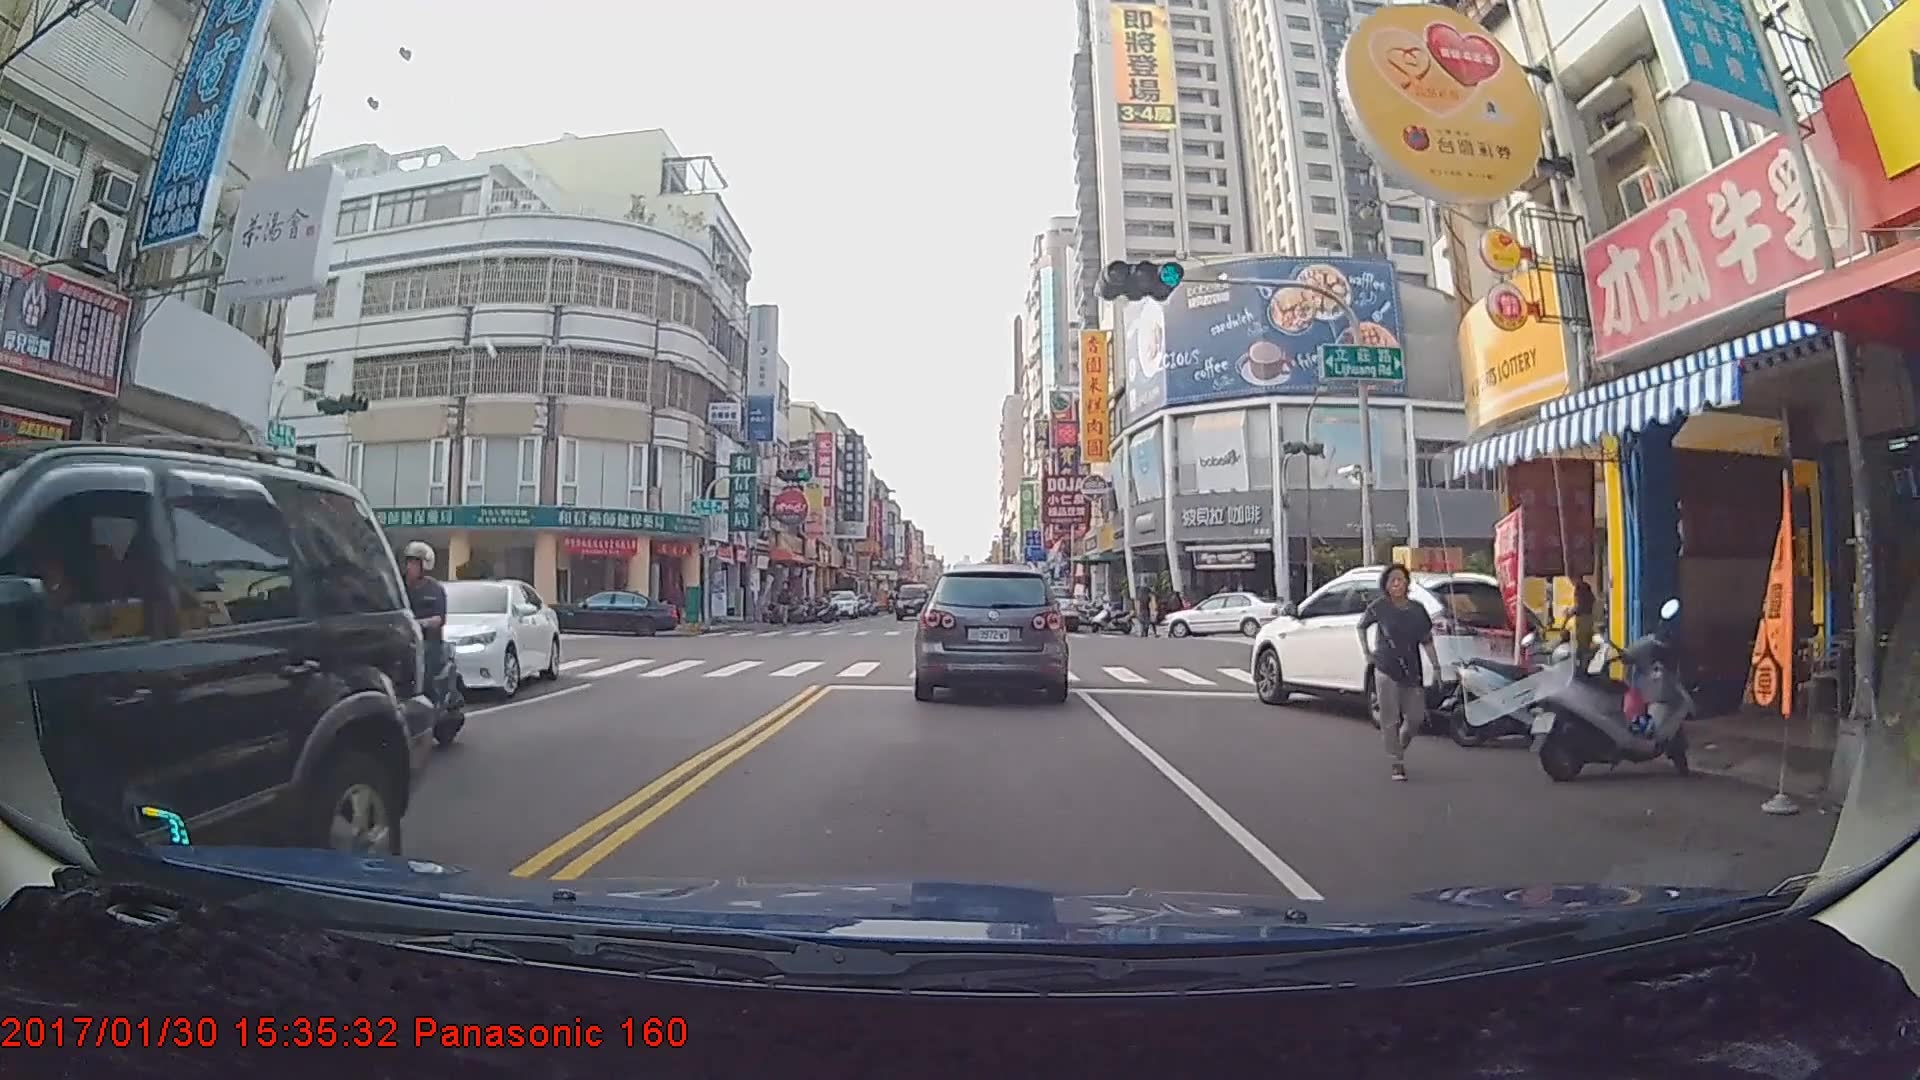pedestrian: (1363, 559, 1438, 777), (775, 582, 795, 628)
rider: (350, 535, 470, 751)
vehicle: (0, 439, 426, 990), (1249, 563, 1550, 728), (364, 577, 562, 704), (916, 562, 1065, 702), (540, 585, 681, 635), (1159, 588, 1291, 637), (893, 583, 931, 620), (819, 588, 861, 617)
